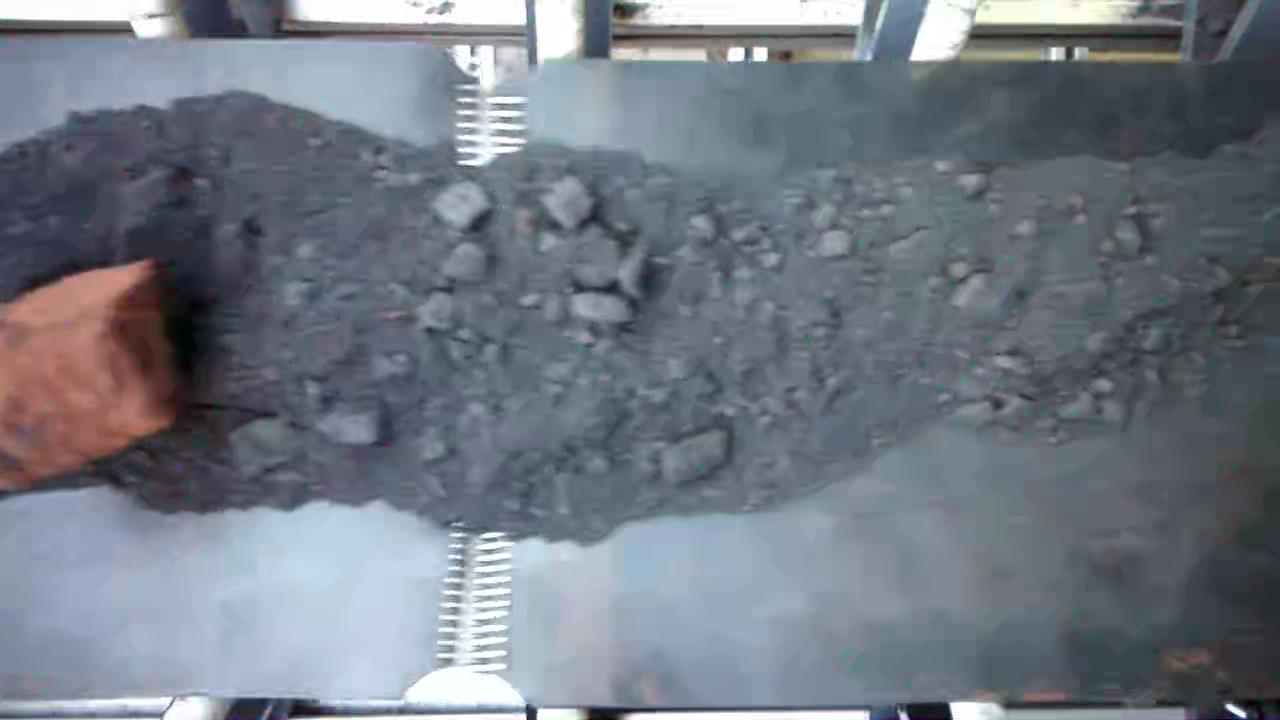conveyor: (18, 68, 1271, 676)
